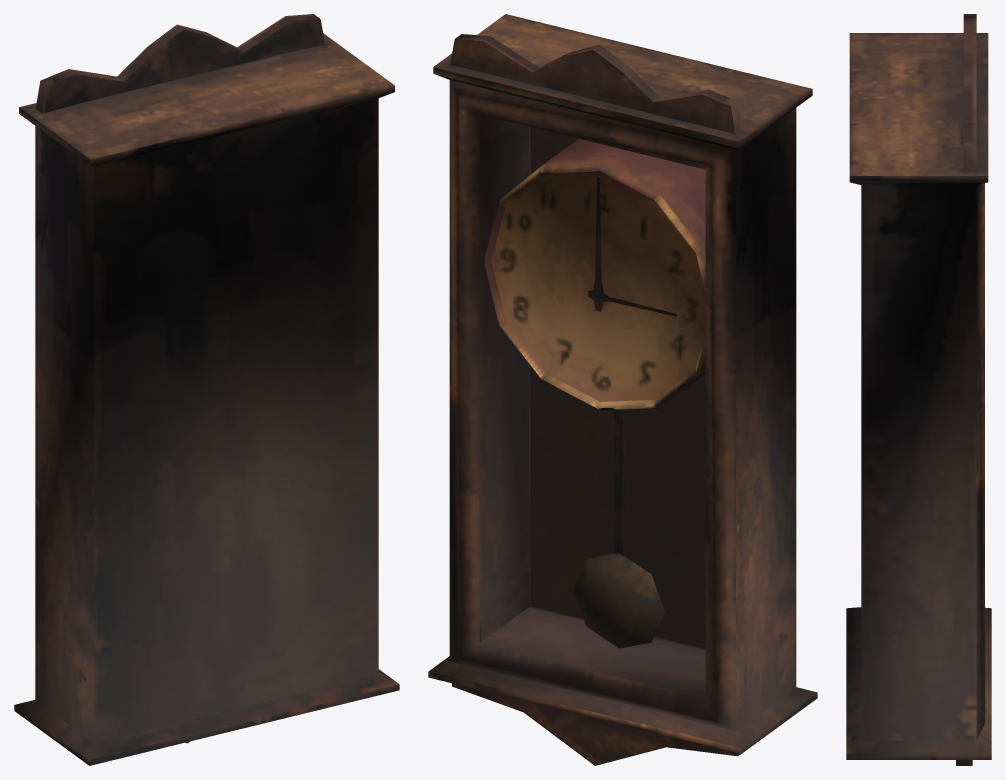
Rendered from clock.fbx.
3 views of the same model, side by side, from view 1: azimuth 30°, elevation 25°; view 2: azimuth 150°, elevation 25°; view 3: azimuth 270°, elevation 25° (orthographic). The views are drawn at different scales.
Visible parts, largest first — view 1: _gltfNode_36; view 2: _gltfNode_36; view 3: _gltfNode_36.
Boxes of the visible parts, x1,y1,x2,y2 form: _gltfNode_36: [14, 14, 399, 765]; _gltfNode_36: [428, 14, 817, 765]; _gltfNode_36: [846, 14, 991, 765].
Size of the model in its own units: 119 by 261 by 50.04.
